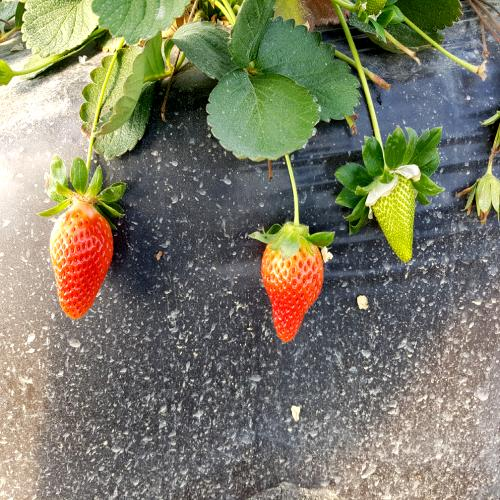ripe: (46, 189, 122, 329), (259, 221, 326, 357)
